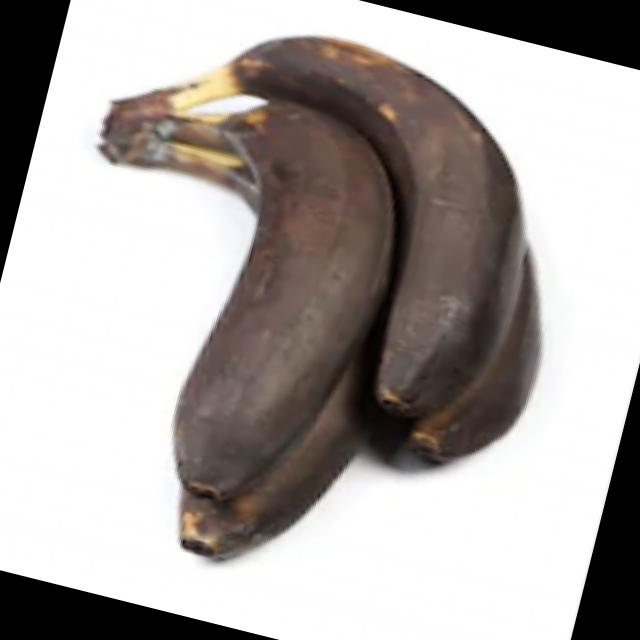rotten-banana: (41, 36, 412, 578), (232, 31, 562, 433)
